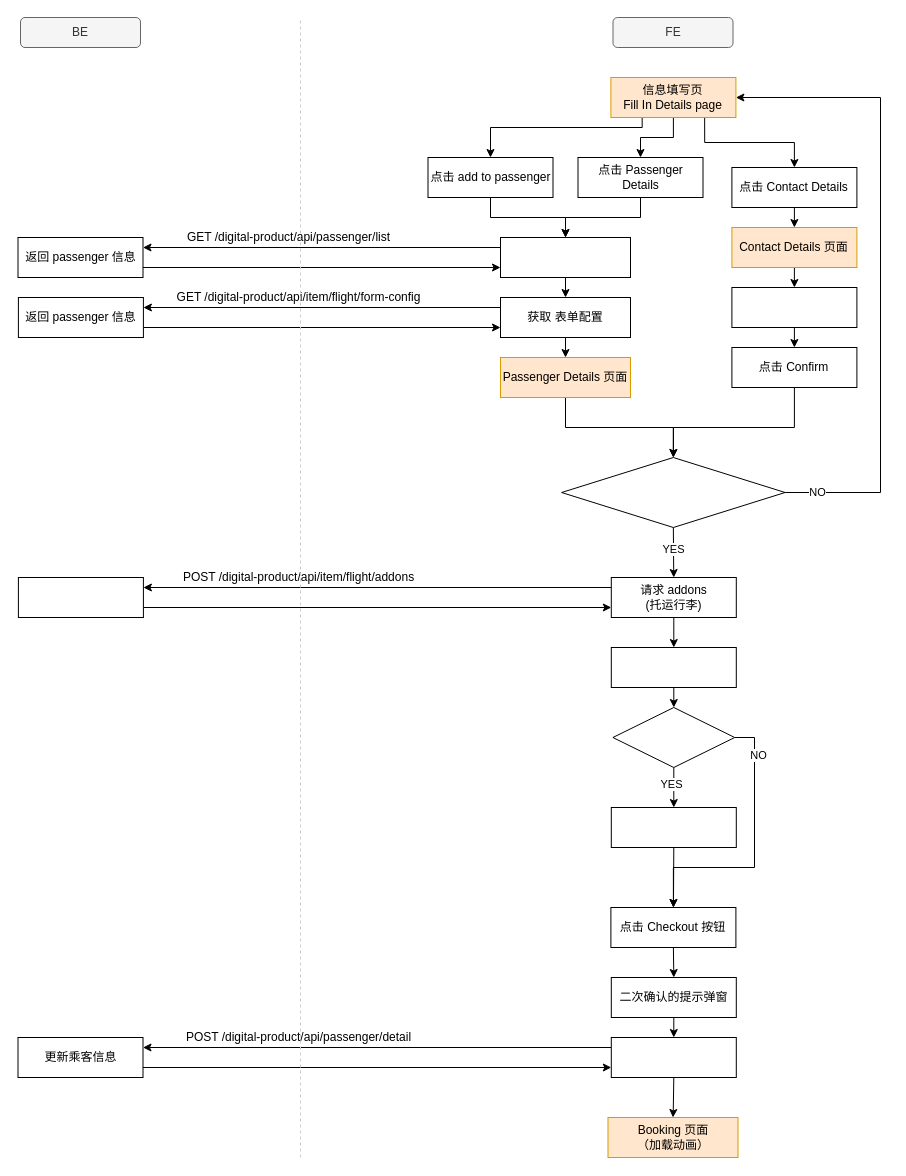
Image size: 906x1176. Some labels were removed from this diagram. The box of each missing label's shape, as (x1, y1, x2, y2) in pixels:
passenger 和 contact信息 都填写完毕？: (561, 456, 785, 528)
显示 Baggage 栏目: (610, 806, 736, 848)
校验通过？: (612, 706, 735, 768)
点击 proceed 按钮: (610, 1036, 736, 1078)
联系人信息填写: (731, 286, 857, 328)
获取 passenger list: (500, 236, 630, 278)
行李服务信息: (17, 576, 143, 618)
行李配置及规则校验: (610, 646, 736, 688)
